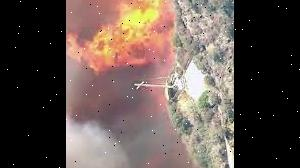fire: (69, 0, 169, 84)
